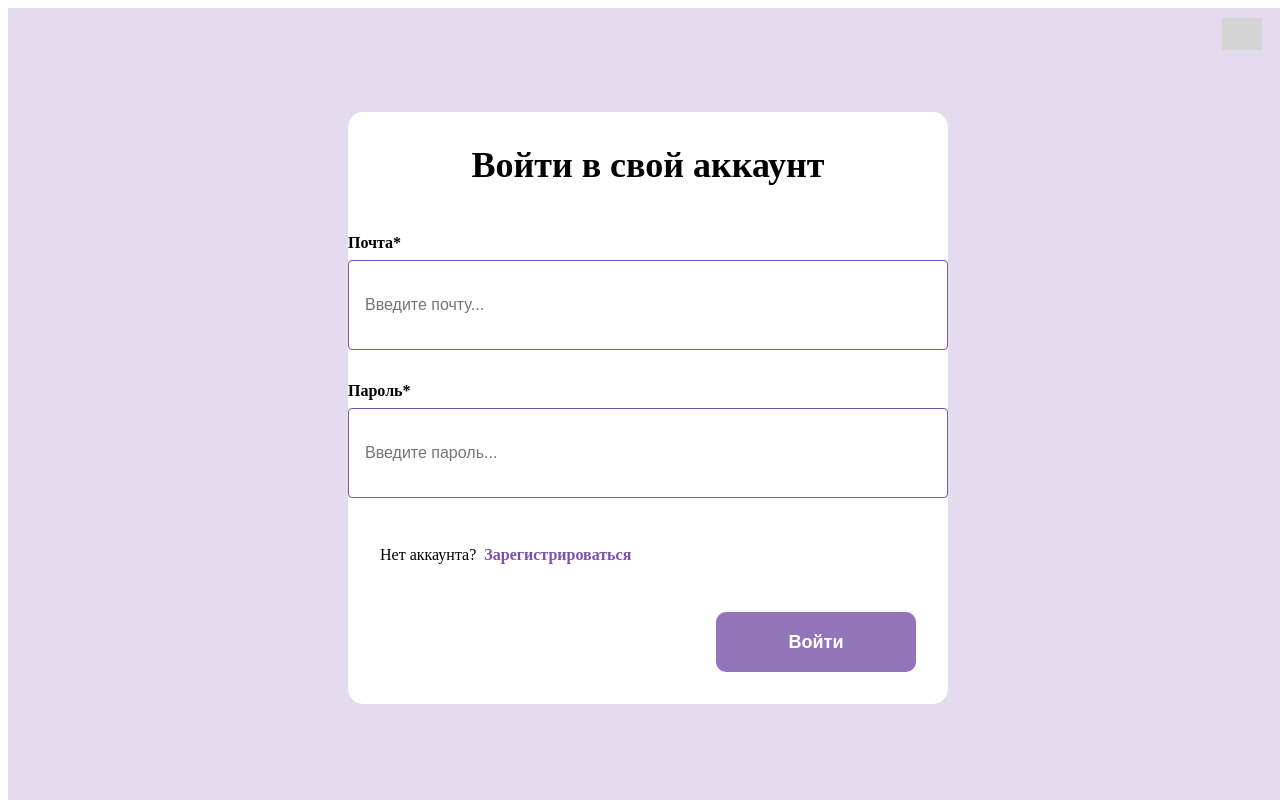
Test: Testing SignIn SUCCESS › submit sign-in form with only login
The image size is (1280, 800).
Type "alex_vovkin@mail.ru" into the field labelled "Почта*" at (648, 305), box [348, 260, 948, 350]
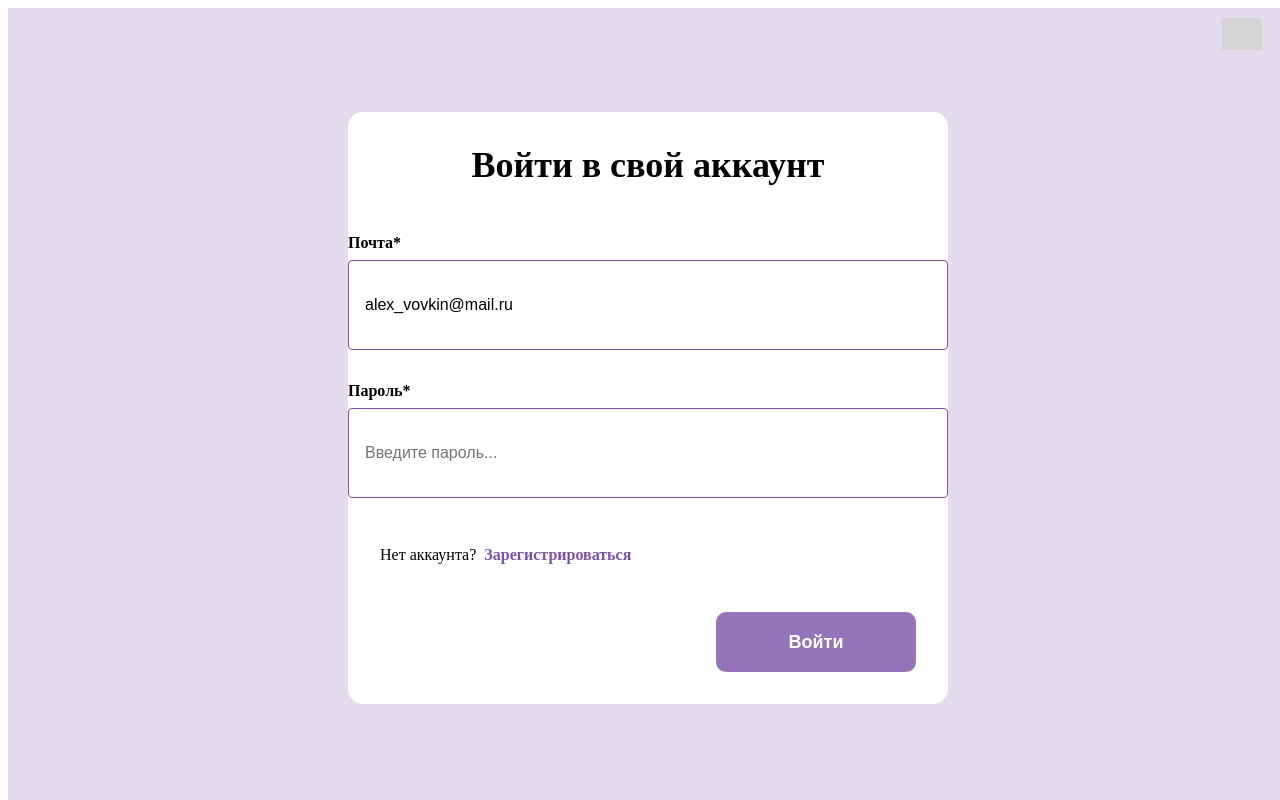
Submit the form from the element with test id "signin-form", box [316, 234, 980, 498]
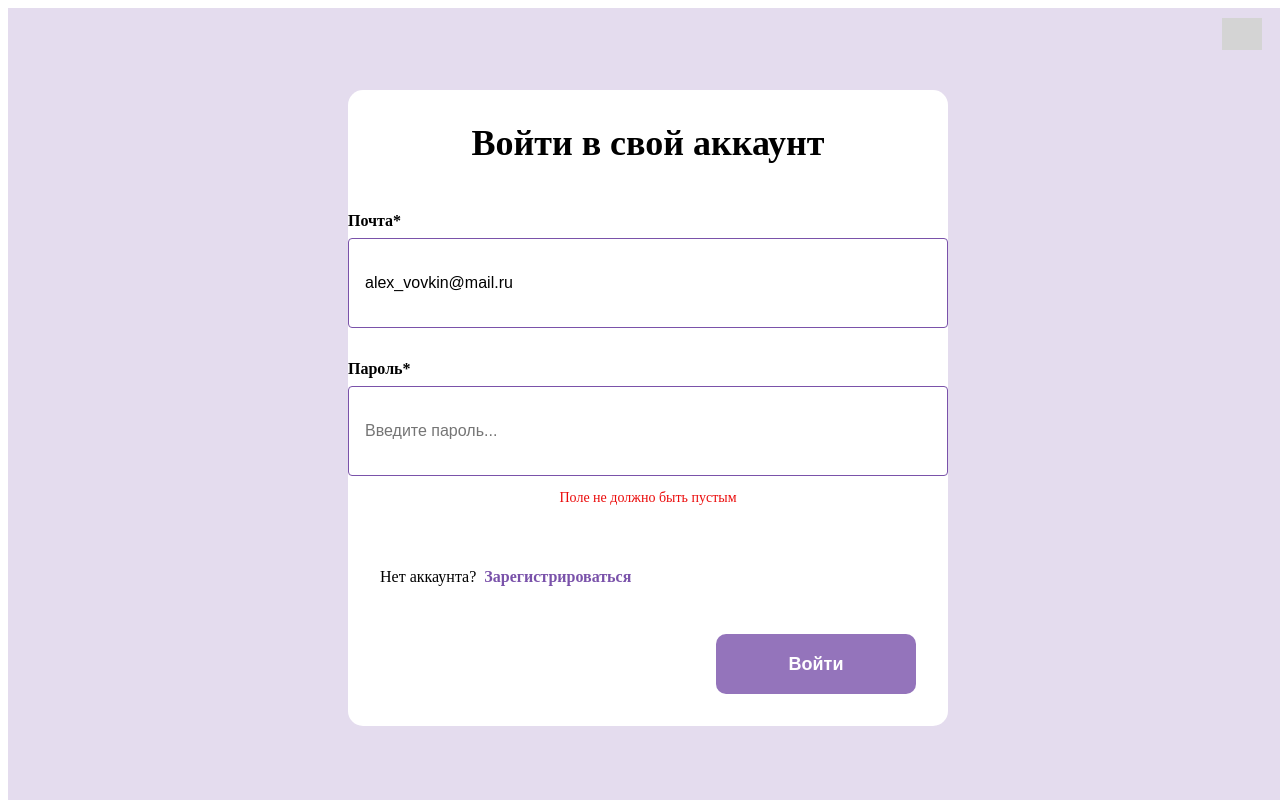
Expected: the text "Поле не должно быть пустым" is shown, [560, 490, 736, 506]
